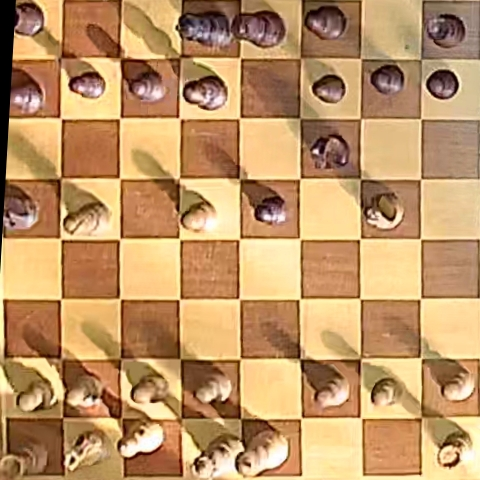black-bishop: (305, 5, 347, 40), (183, 76, 226, 110)
black-king: (178, 11, 233, 47)
black-knight: (4, 184, 40, 230), (310, 134, 349, 168)
black-pawn: (127, 70, 167, 102), (11, 82, 44, 115), (370, 64, 405, 95), (426, 69, 459, 99), (312, 75, 346, 104), (69, 72, 105, 99), (255, 196, 287, 225)
black-queen: (231, 11, 285, 48)
black-rook: (426, 13, 466, 48), (15, 2, 44, 36)
white-bishop: (119, 421, 164, 459), (64, 201, 110, 236)
white-king: (238, 429, 289, 477)
white-knight: (64, 429, 109, 472), (365, 193, 404, 229)
white-pawn: (193, 369, 232, 404), (66, 374, 103, 410), (313, 374, 350, 409), (17, 379, 56, 412), (442, 367, 476, 402), (131, 374, 170, 404), (181, 200, 216, 231), (371, 378, 400, 407)
white-queen: (191, 434, 244, 479)
white-rook: (1, 438, 48, 476), (436, 431, 473, 469)
